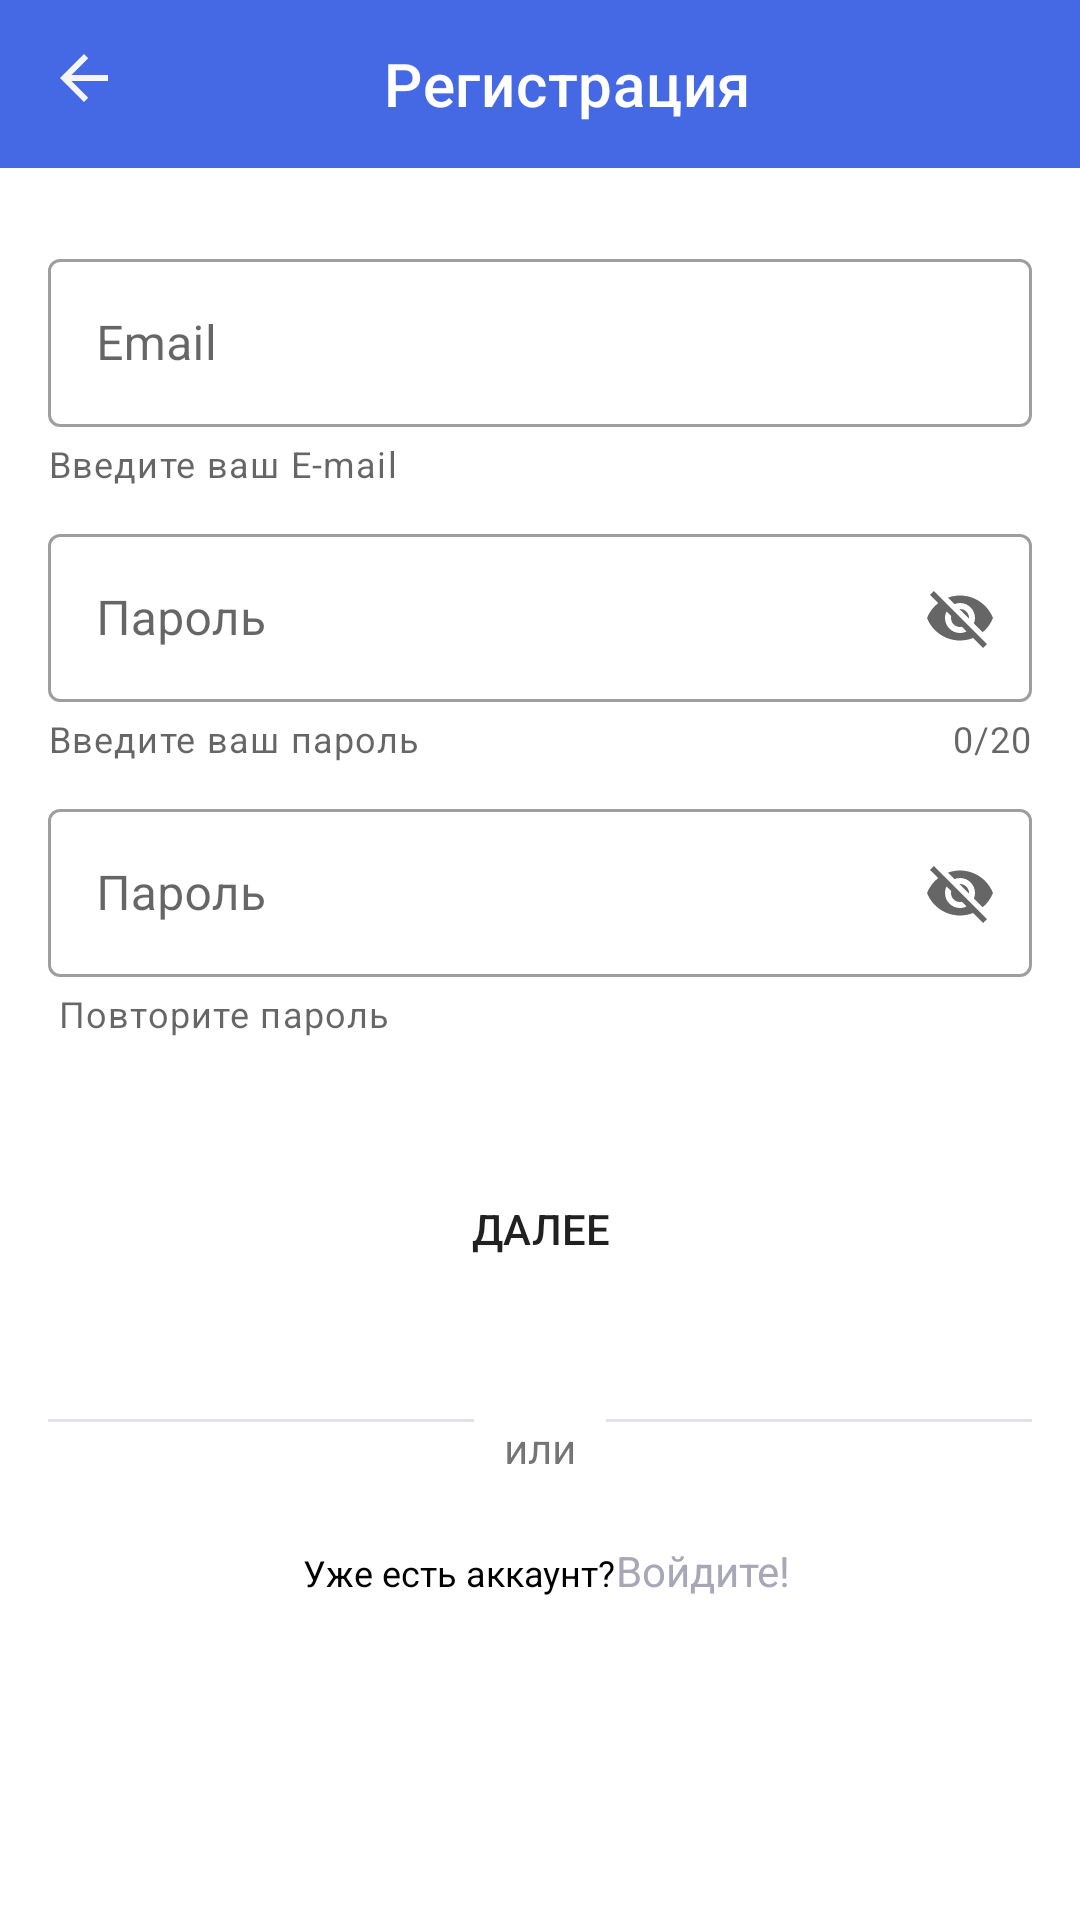

Where icons sit on this 1080px x 1920px app screen, as Rect(x1, y1, x2, y2):
arrow back: Rect(60, 54, 108, 102)
